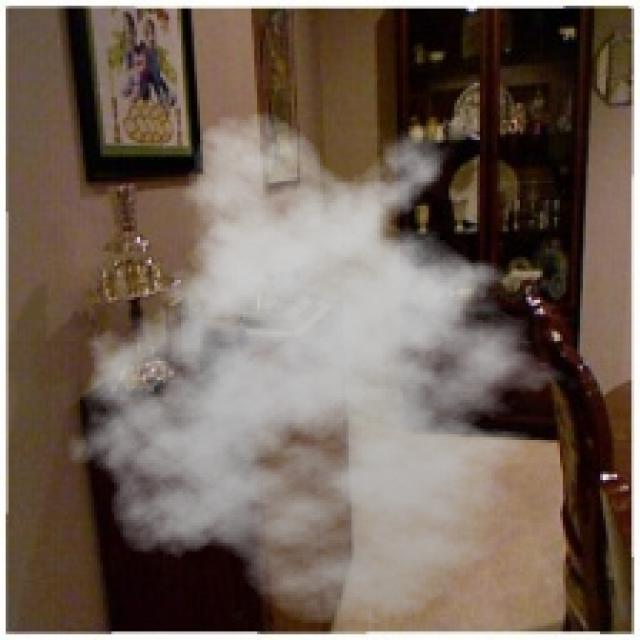smoke: (54, 109, 589, 626)
